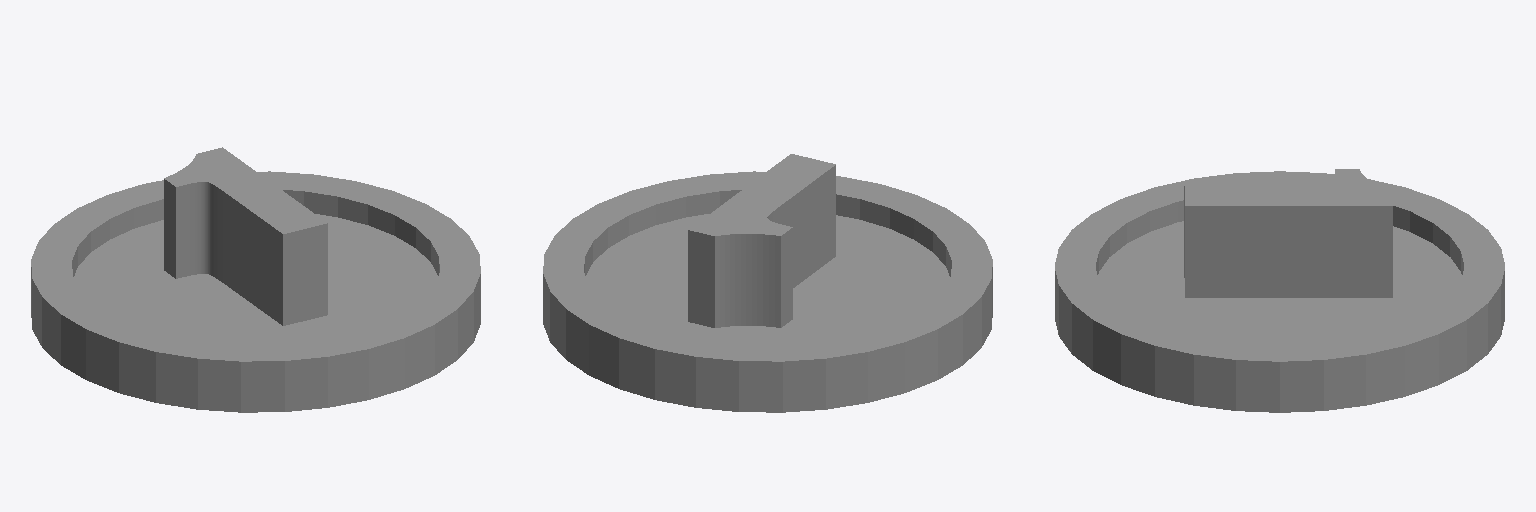
The model's file is soldier_piece.obj.
3 renders of one model, left to right at view 1: azimuth 30°, elevation 25°; view 2: azimuth 150°, elevation 25°; view 3: azimuth 270°, elevation 25°, orthographic.
Parts seen in each view (by area): view 1: Cylinder; view 2: Cylinder; view 3: Cylinder.
Boxes of the visible parts, box(x1,y1,x2,y2) form: Cylinder: box(31, 147, 480, 412); Cylinder: box(543, 154, 992, 412); Cylinder: box(1055, 169, 1504, 412).
Size of the model in its own units: 8 by 2.41 by 8.